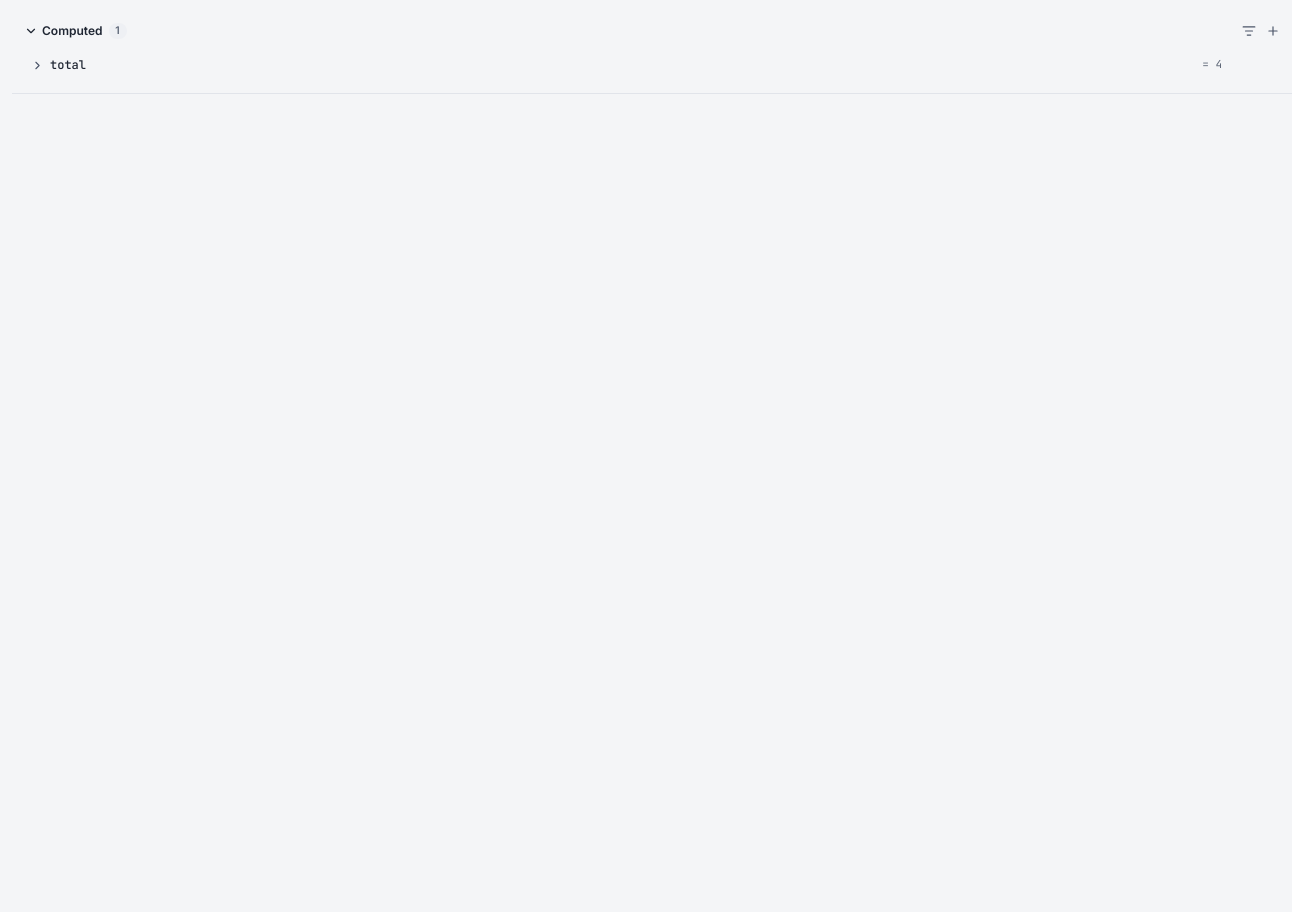
Test: ComputedSection › renames with validation and updates references
Click the button "total = 4".
click(68, 65)  # box [25,50,1228,80]
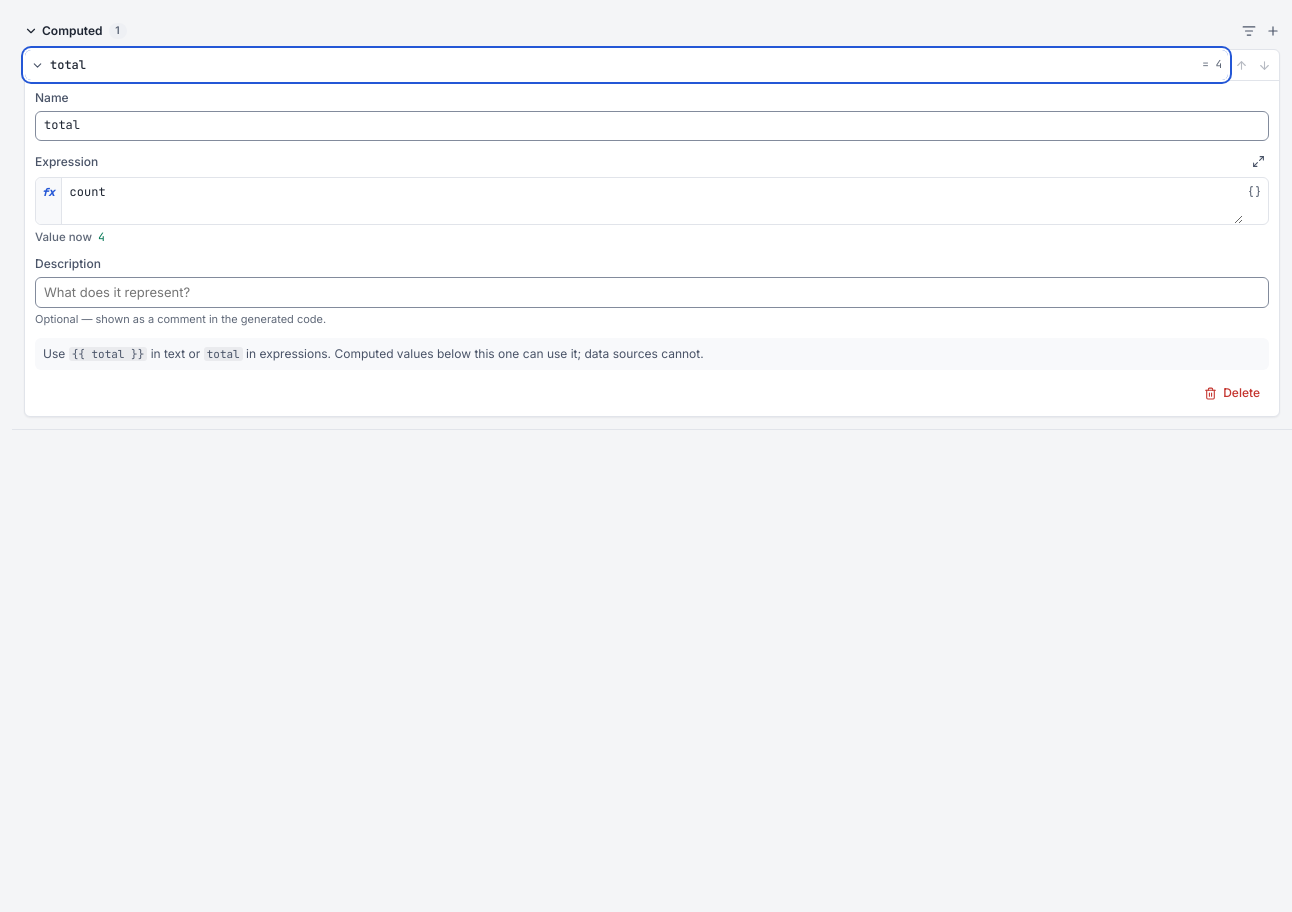
Replace the text in the field labelled "Name" with "count" at [652, 126], box [35,111,1269,141]
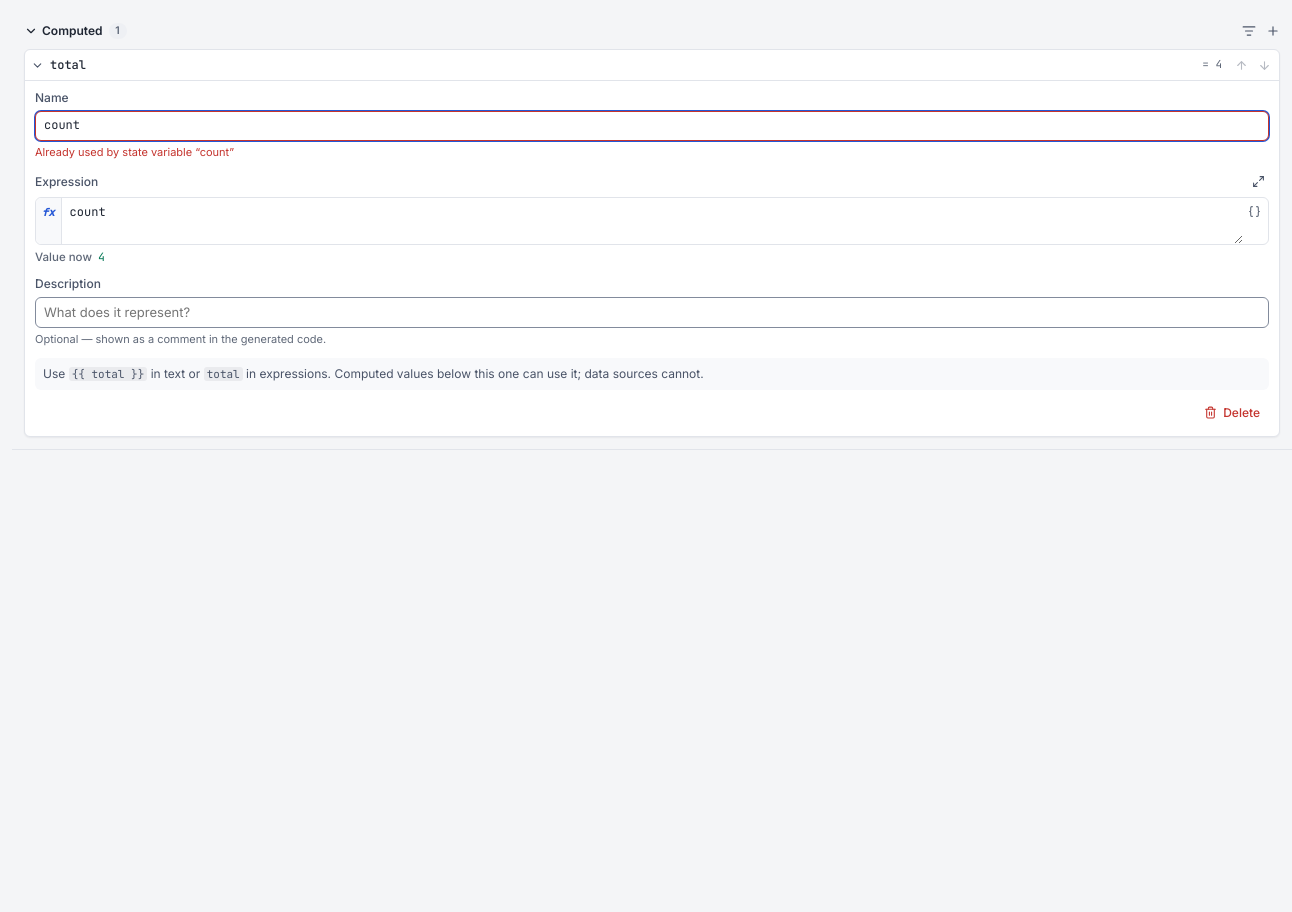
Result: the text "Already used by state variable “count”" is shown at [35,145,234,159]
Replace the text in the field labelled "Name" with "sum" at [652, 126], box [35,111,1269,141]
Then press Enter
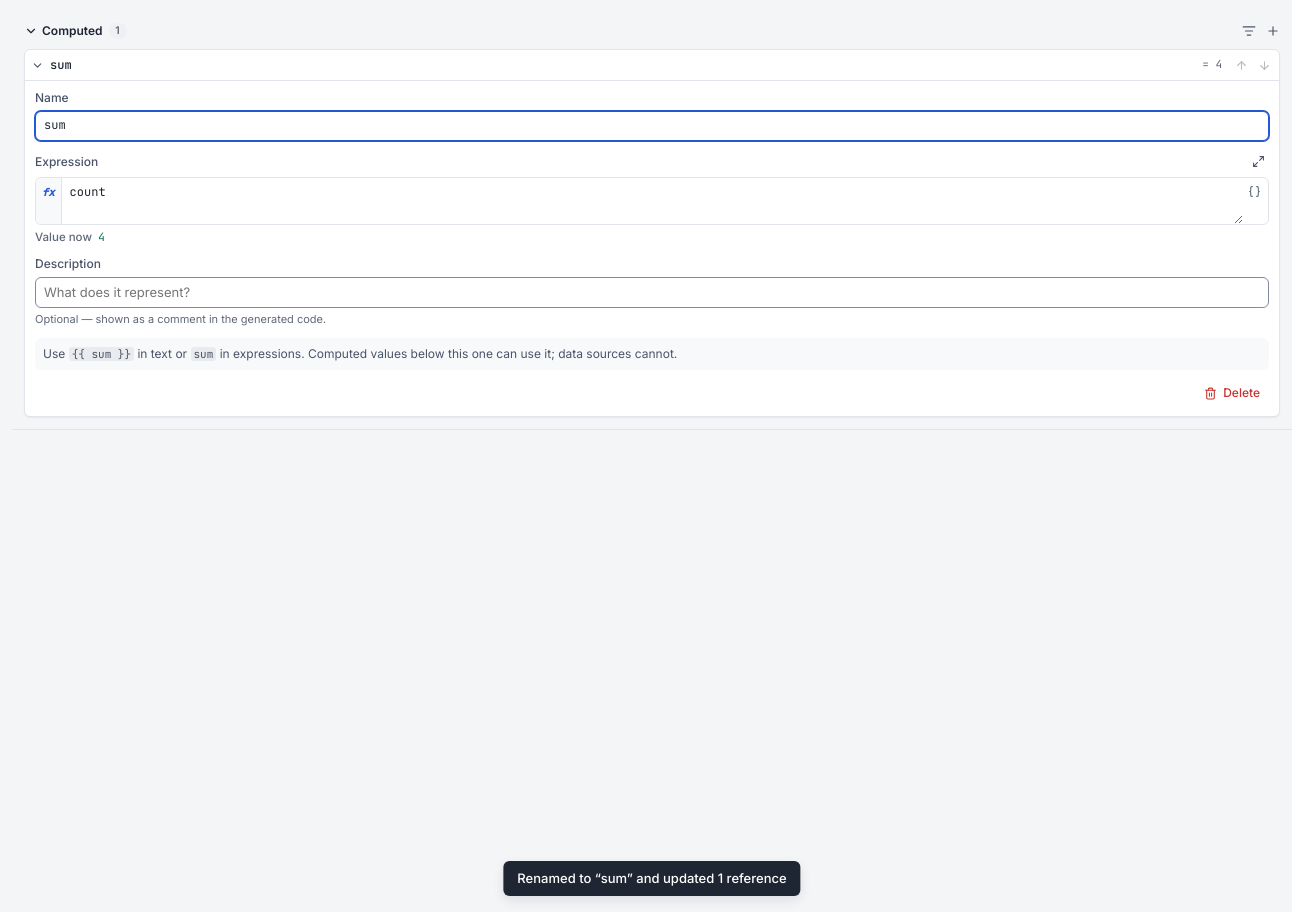
Result: the 1st text "sum" is shown at [50,57,72,74]
Result: the text "Renamed to “sum” and updated 1 reference" is shown at [517,870,787,886]
